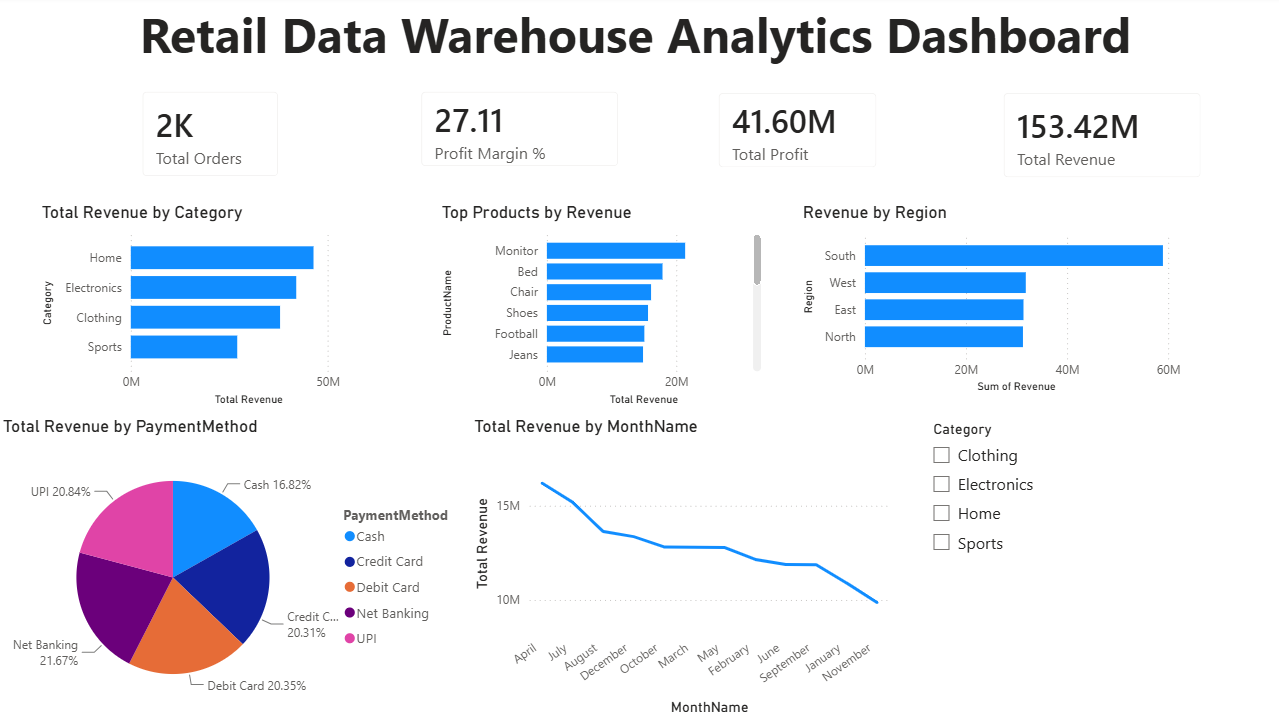

The dashboard page shown, as its layout file describes it:
{"tool":"powerbi","page":{"name":"Page 1","canvas":[1280,720],"ordinal":0},"visuals":[{"type":"cardVisual","fields":{"Data":["FactSales.Total Revenue"]},"box":[984,79.6,230.1,118.2],"z":1000},{"type":"cardVisual","fields":{"Data":["FactSales.Total Orders"]},"box":[126.9,78.4,169.2,118.2],"z":2000},{"type":"clusteredBarChart","fields":{"Category":["DimProduct.Category"],"Y":["FactSales.Total Revenue"]},"box":[38.4,205.8,345.8,207.2],"z":3000},{"type":"clusteredBarChart","title":"Top Products by Revenue","fields":{"Category":["DimProduct.ProductName"],"Y":["FactSales.Total Revenue"]},"box":[436.4,205.8,328,207.2],"z":4000},{"type":"pieChart","fields":{"Y":["FactSales.Total Revenue"],"Series":["DimPayment.PaymentMethod"]},"box":[0,417.7,468.6,302.6],"z":5000},{"type":"lineChart","fields":{"Category":["DimDate.MonthName"],"Y":["FactSales.Total Revenue"]},"box":[468.6,417.7,423.1,302.6],"z":6000},{"type":"slicer","fields":{"Values":["DimProduct.Category"]},"box":[918.5,417.7,361.5,302.6],"z":7000},{"type":"textbox","box":[72.3,0,1124.7,88.4],"z":8000},{"type":"cardVisual","fields":{"Data":["FactSales.Total Profit"]},"box":[700.3,79.6,191.6,108.2],"z":8001},{"type":"cardVisual","fields":{"Data":["FactSales.Profit Margin %"]},"box":[404.3,78.4,230.1,108.2],"z":8002},{"type":"clusteredBarChart","title":"Revenue by Region","fields":{"Category":["DimStore.Region"],"Y":["Sum(FactSales.Revenue)"]},"box":[795.9,205.8,385.6,194.9],"z":8003}]}

Visuals, with their boxes in screenshot pixels (x1, y1, x2, y2), scaled from the page's 1280x720 canvas onto the 1279x716 screenshot:
cardVisual - FactSales.Total Revenue: pyautogui.locateOnScreen(983, 79, 1213, 197)
cardVisual - FactSales.Total Orders: pyautogui.locateOnScreen(127, 78, 296, 196)
clusteredBarChart - DimProduct.Category x FactSales.Total Revenue: pyautogui.locateOnScreen(38, 205, 384, 411)
"Top Products by Revenue" clusteredBarChart: pyautogui.locateOnScreen(436, 205, 764, 411)
pieChart - FactSales.Total Revenue x DimPayment.PaymentMethod: pyautogui.locateOnScreen(0, 415, 468, 715)
lineChart - DimDate.MonthName x FactSales.Total Revenue: pyautogui.locateOnScreen(468, 415, 891, 715)
slicer - DimProduct.Category: pyautogui.locateOnScreen(918, 415, 1278, 715)
textbox: pyautogui.locateOnScreen(72, 0, 1196, 88)
cardVisual - FactSales.Total Profit: pyautogui.locateOnScreen(700, 79, 891, 187)
cardVisual - FactSales.Profit Margin %: pyautogui.locateOnScreen(404, 78, 634, 186)
"Revenue by Region" clusteredBarChart: pyautogui.locateOnScreen(795, 205, 1181, 398)
